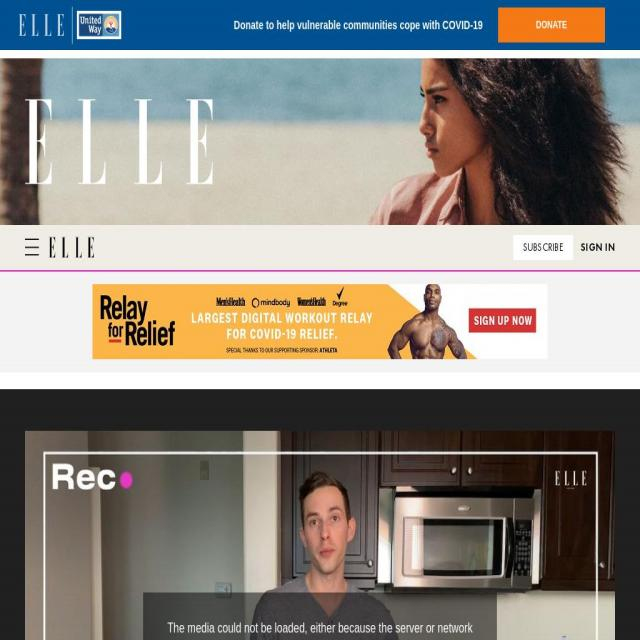follow-options: (518, 235, 574, 260)
login-option: (578, 235, 620, 262)
options: (22, 226, 46, 266)
